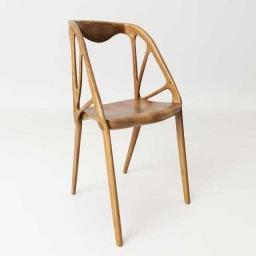Chair: (67, 20, 192, 246)
